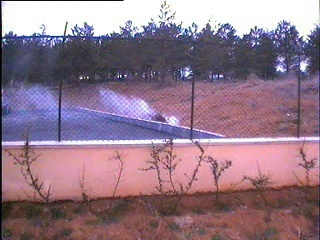smoke: (94, 82, 178, 124)
